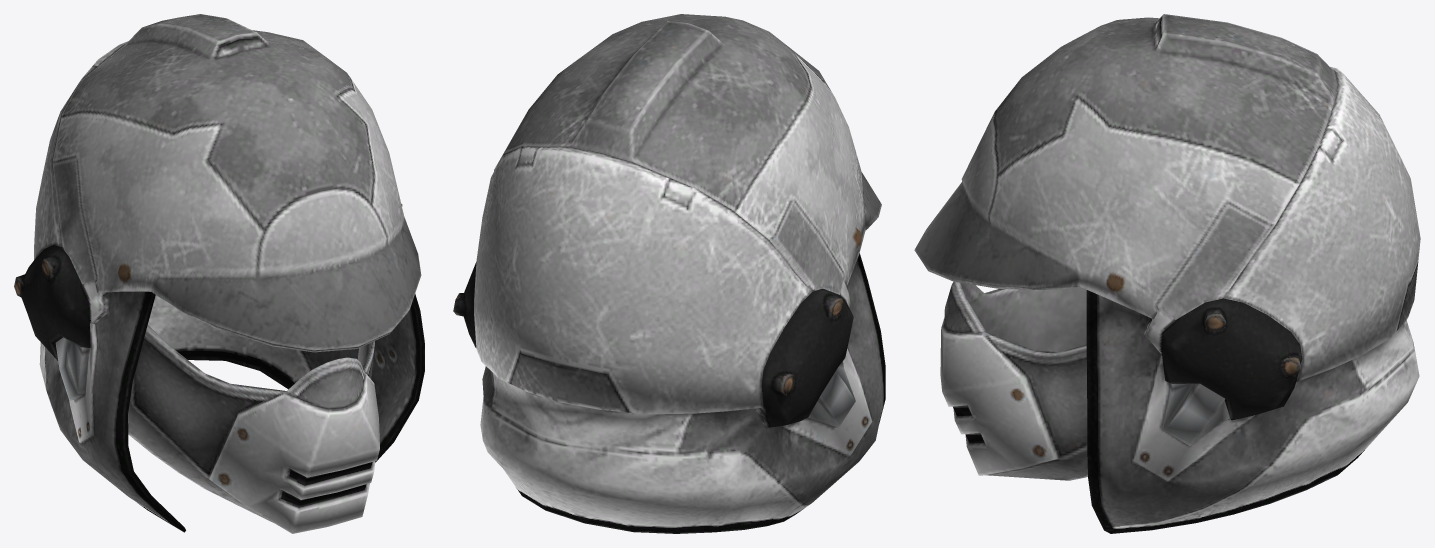
The model's file is SurvivorMale_Head_Helmet_Shogun_LOD0.glb.
3 views of the same model, side by side, from view 1: azimuth 30°, elevation 25°; view 2: azimuth 150°, elevation 25°; view 3: azimuth 270°, elevation 25° (orthographic). The views are drawn at different scales.
Visible parts, largest first — view 1: Hoodie; view 2: Hoodie; view 3: Hoodie.
Boxes of the visible parts, box(x1,y1,x2,y2) form: Hoodie: box(14, 14, 424, 533); Hoodie: box(453, 14, 885, 533); Hoodie: box(914, 14, 1420, 533).
Size of the model in its own units: 0.2206 by 0.2887 by 0.2806.
1 material, 1 textured.
